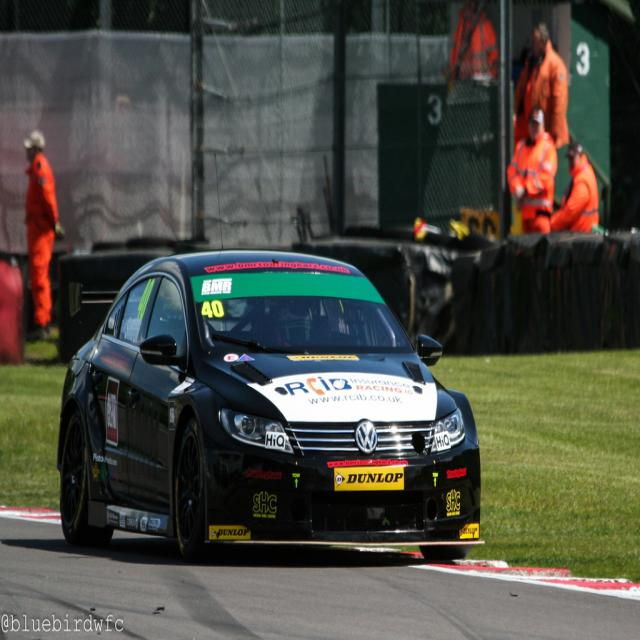car: (54, 153, 484, 561)
